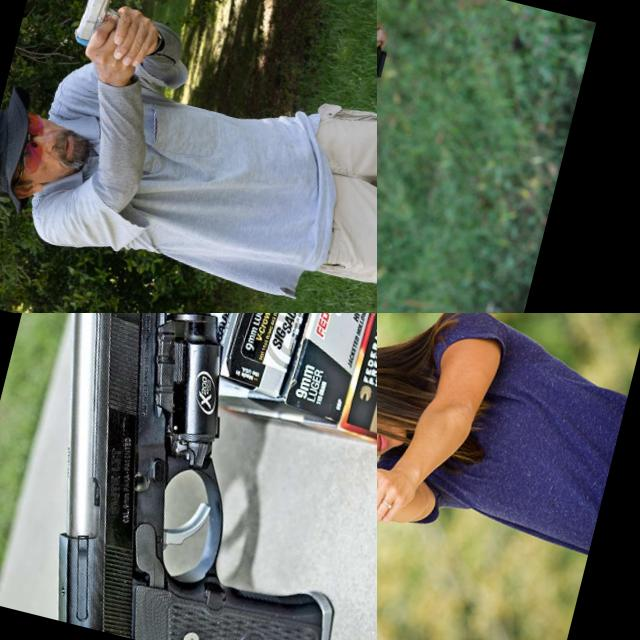handgun: (0, 313, 377, 640), (377, 0, 437, 81), (68, 0, 140, 54), (377, 472, 409, 526)
